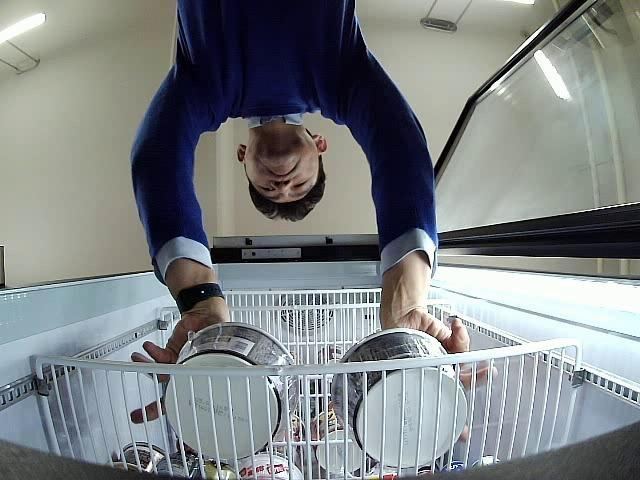07_buldak_L: (330, 329, 468, 468), (163, 322, 298, 461)
